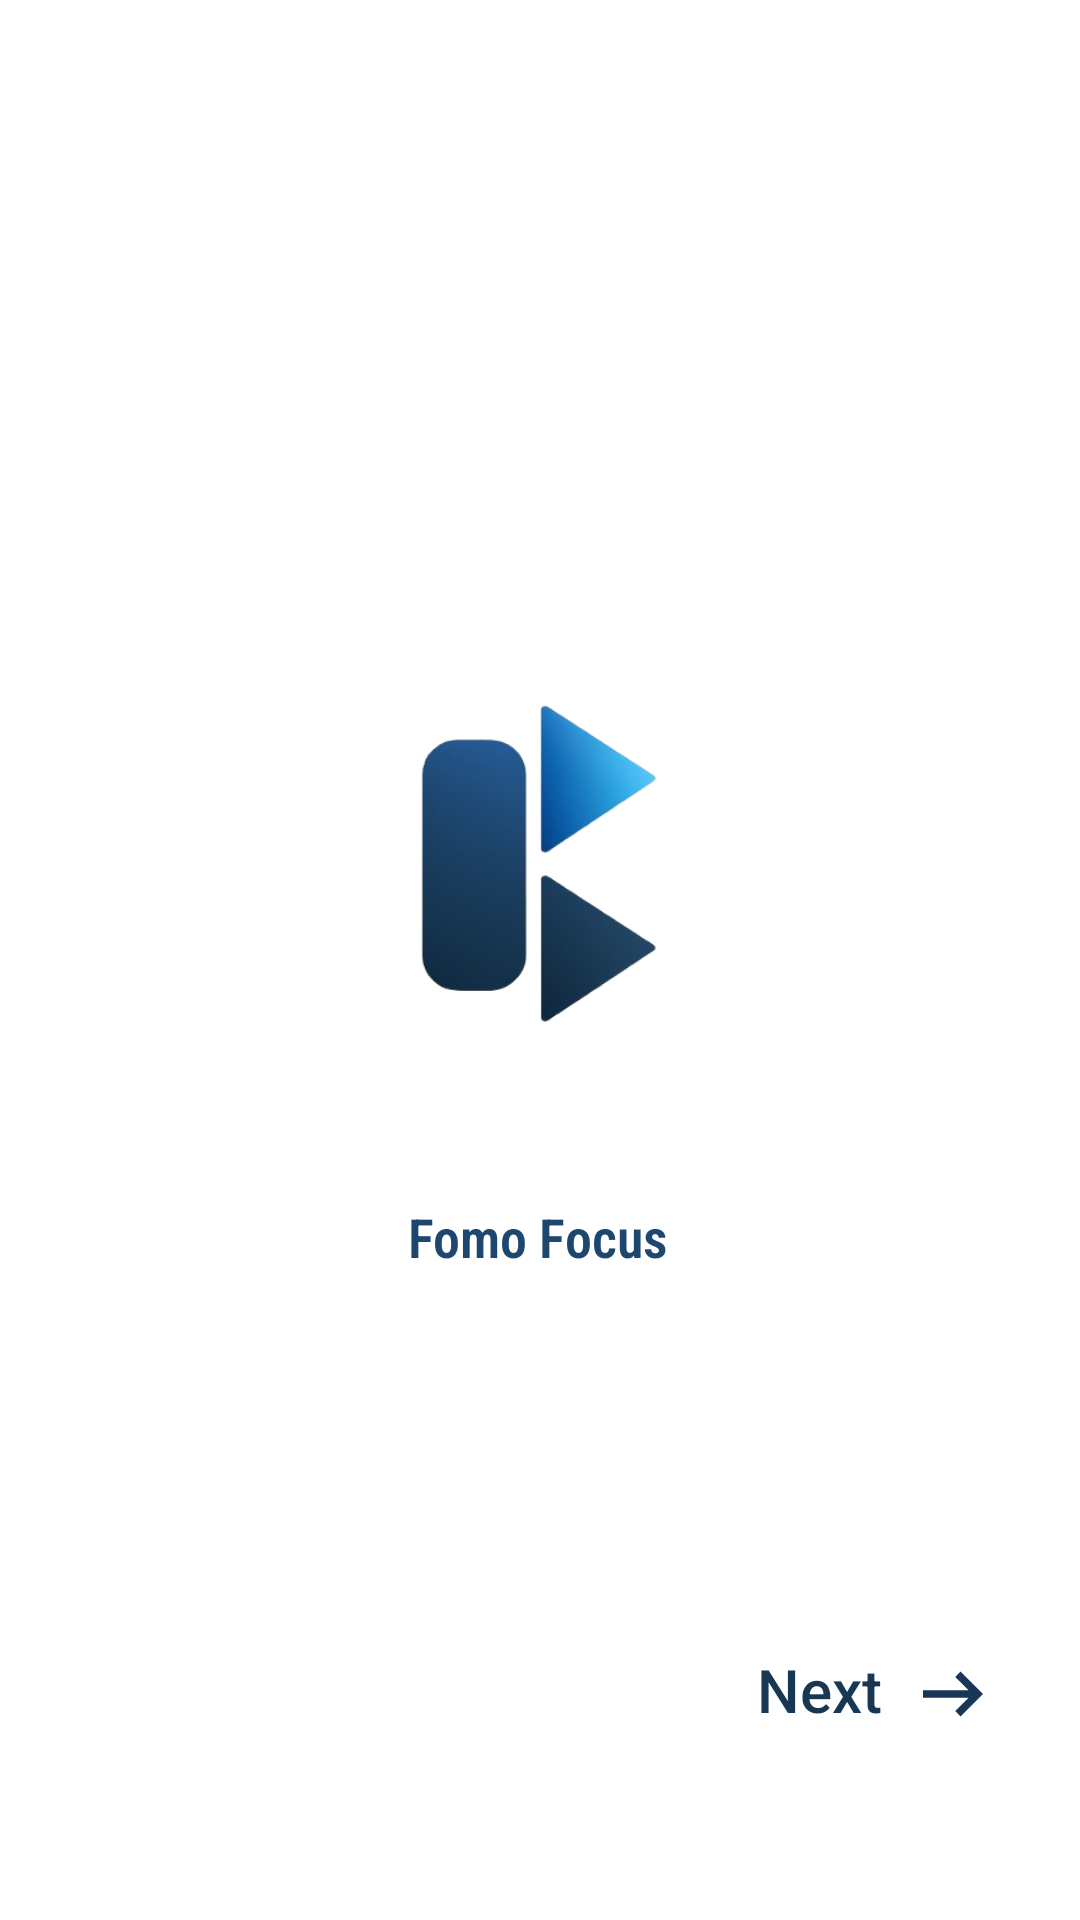

Where to tap for icons on this 1080×1920 app screen, as (x=x, y=y):
arrow right: (x=953, y=1694)
